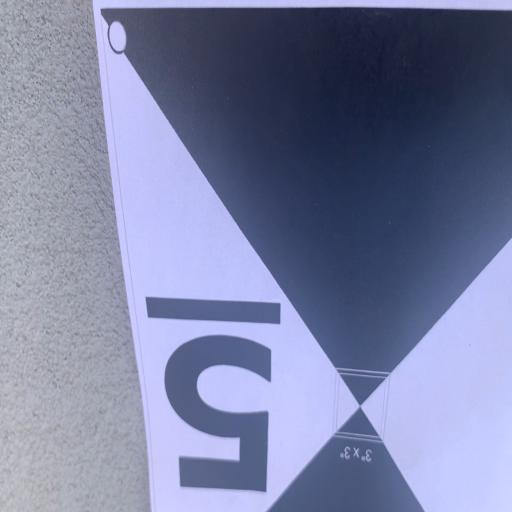target5: (93, 0, 512, 512)
